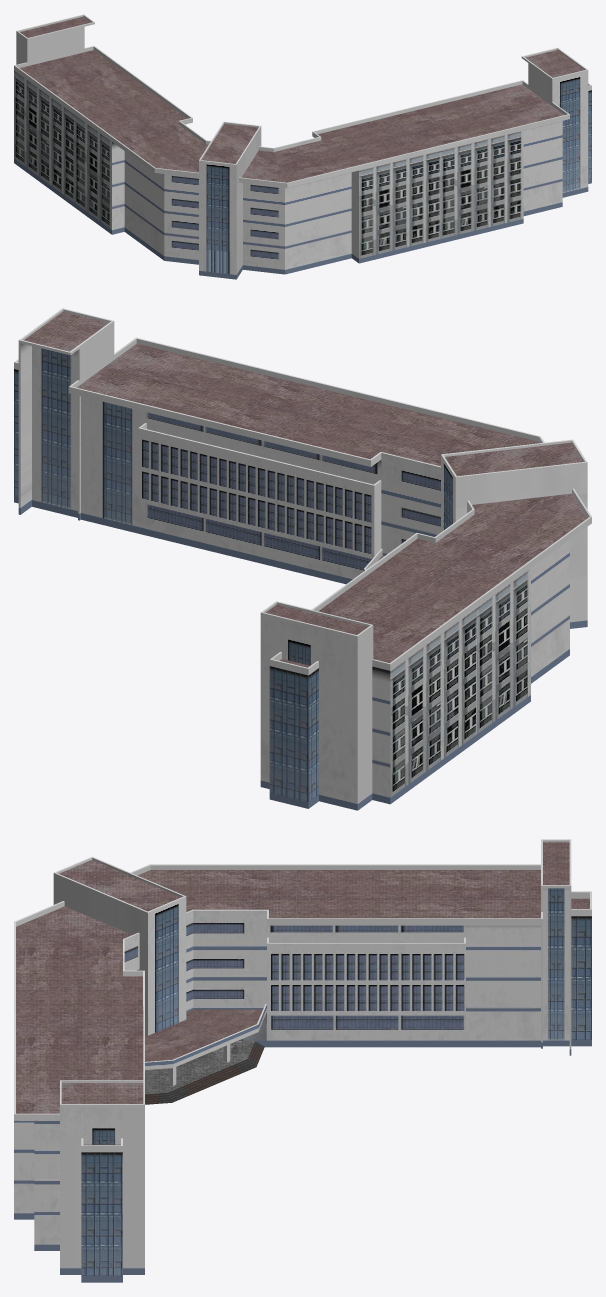
3 renders of one model, top to bottom at view 1: azimuth 30°, elevation 25°; view 2: azimuth 150°, elevation 25°; view 3: azimuth 270°, elevation 25°, orthographic. The views are drawn at different scales.
Parts seen in each view (by area): view 1: HN1323_TTDopingVaYHocTheThao; view 2: HN1323_TTDopingVaYHocTheThao; view 3: HN1323_TTDopingVaYHocTheThao.
Boxes of the visible parts, x1=… form: HN1323_TTDopingVaYHocTheThao: x1=14, y1=14, x2=591, y2=279; HN1323_TTDopingVaYHocTheThao: x1=14, y1=308, x2=591, y2=810; HN1323_TTDopingVaYHocTheThao: x1=14, y1=839, x2=591, y2=1282.
Size of the model in its own units: 70.3 by 19.8 by 60.98.
1 material, 1 textured.
